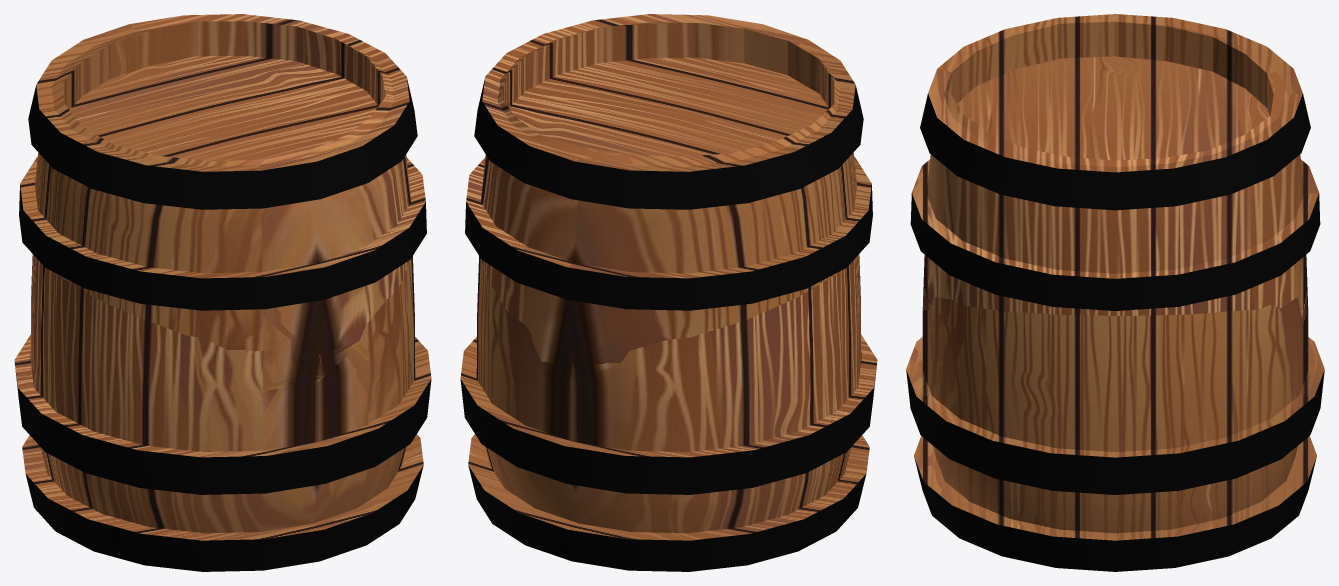
Rendered from barril.fbx.
3 renders of one model, left to right at view 1: azimuth 30°, elevation 25°; view 2: azimuth 150°, elevation 25°; view 3: azimuth 270°, elevation 25°, orthographic.
Parts seen in each view (by area): view 1: pCylinder1; view 2: pCylinder1; view 3: pCylinder1.
Part boxes in pixels (box(x1,y1,x2,y2)): pCylinder1: box(14, 14, 431, 571); pCylinder1: box(460, 14, 877, 571); pCylinder1: box(906, 14, 1324, 571).
Bounding box in the file's own units: 2.35 × 2.47 × 2.35.
Materials: 2 (1 with a texture image).
